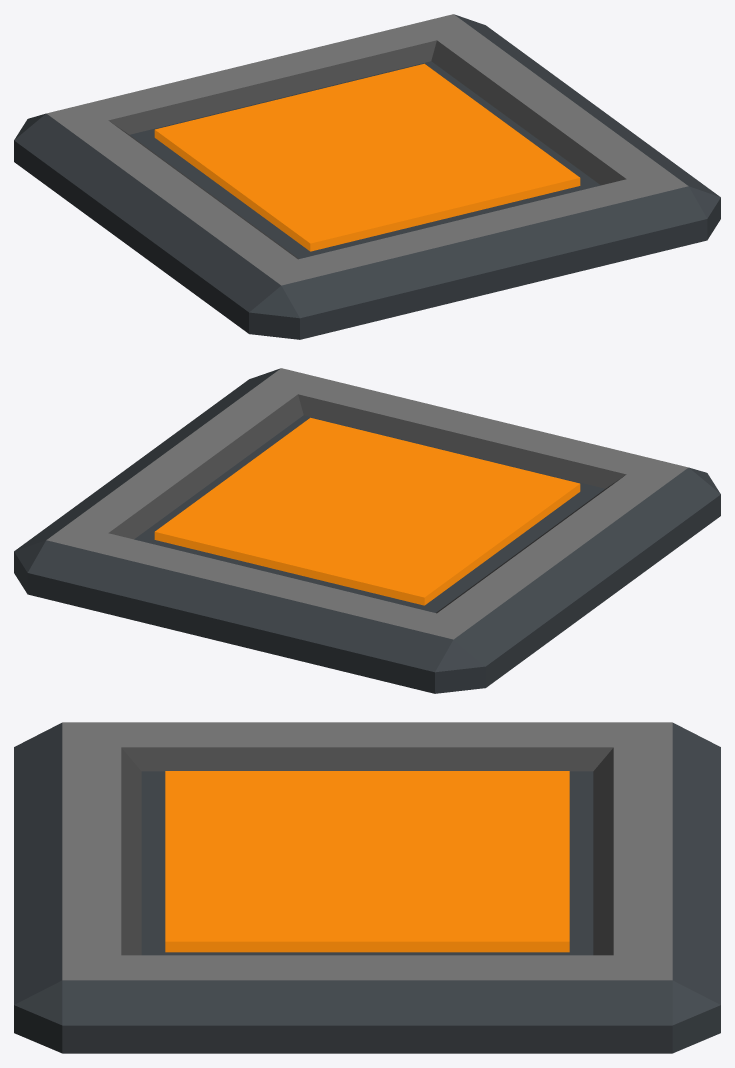
Rendered from NeonLight_02.glb.
3 views of the same model, one above another, from view 1: azimuth 30°, elevation 25°; view 2: azimuth 150°, elevation 25°; view 3: azimuth 270°, elevation 25° (orthographic). The views are drawn at different scales.
Parts seen in each view (by area): view 1: NeonLight_02; view 2: NeonLight_02; view 3: NeonLight_02.
Part boxes in pixels (<box>): NeonLight_02: <box>14,14,720,339</box>; NeonLight_02: <box>14,368,720,693</box>; NeonLight_02: <box>14,722,720,1053</box>.
Size of what is drawn, in the model's own units: 0.8419 by 0.0693 by 0.8419.
Materials: 2 (2 with a texture image).
